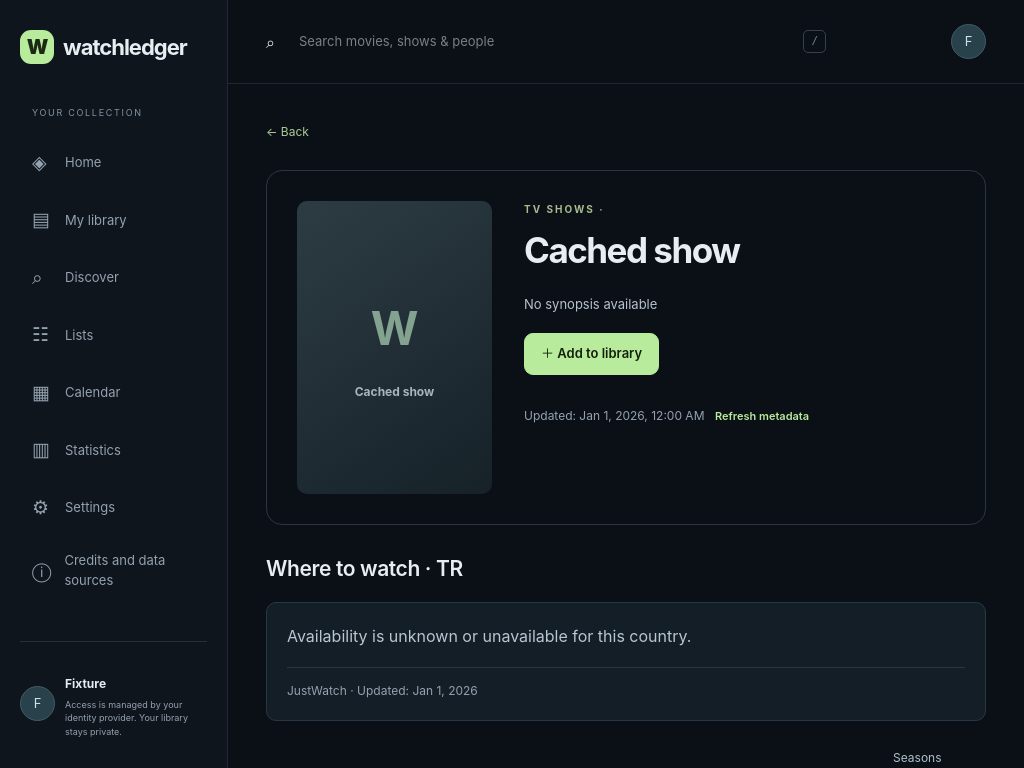
Test: manual TV refresh replaces the displayed cached episodes
The width and height of the screenshot is (1024, 768).
Click the button "Refresh metadata". click: coordinates (762, 416)
box: left=709, top=400, right=815, bottom=432
(page scrolled)
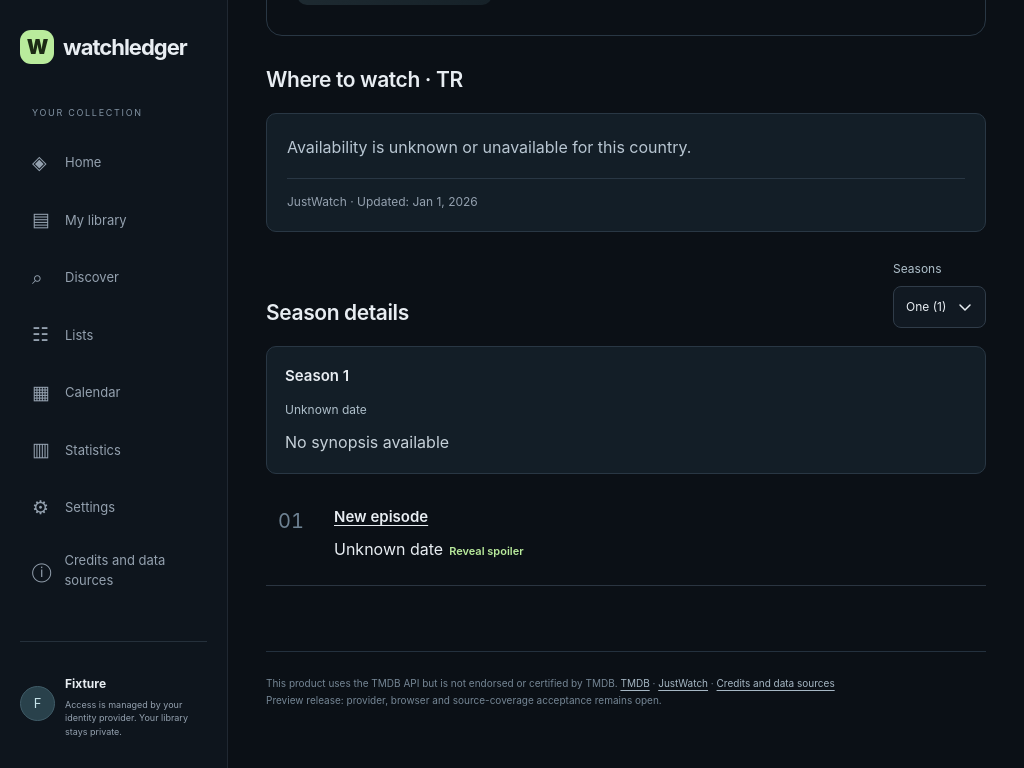
Result: the link "New episode" is shown at left=334, top=508, right=428, bottom=526
